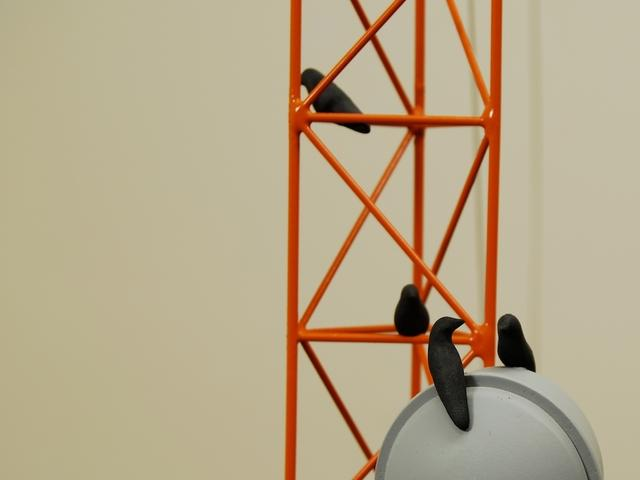bird: (384, 267, 559, 443), (288, 64, 398, 145)
